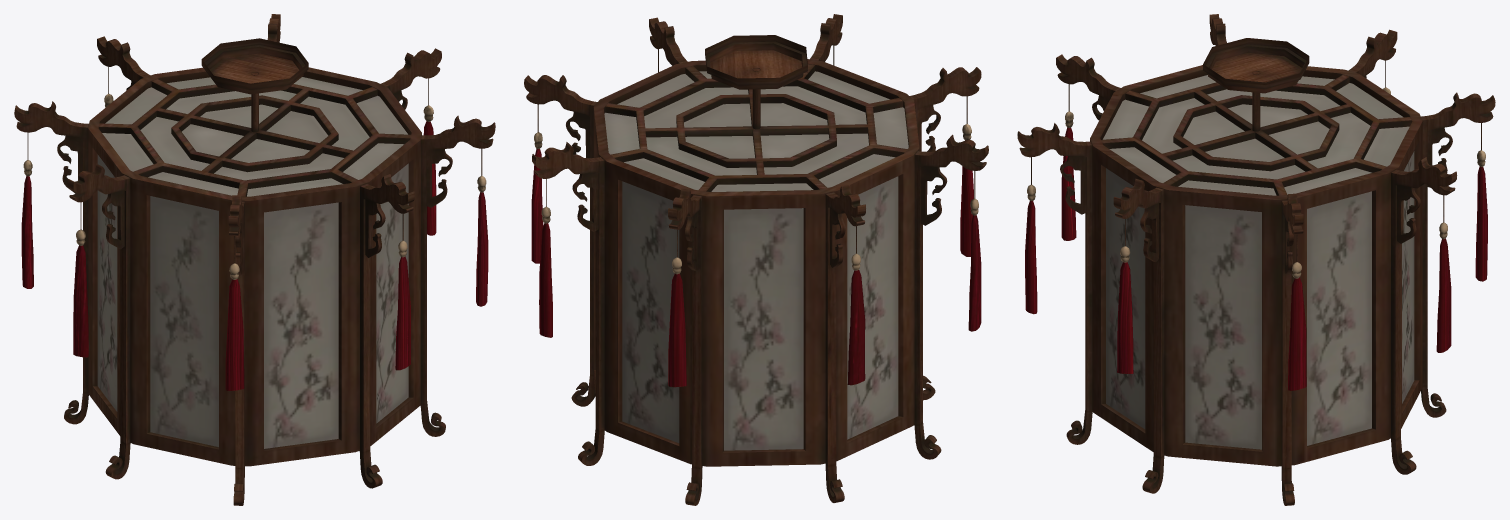
File: chinese-wooden-chandelier.glb
3 renders of one model, left to right at view 1: azimuth 30°, elevation 25°; view 2: azimuth 150°, elevation 25°; view 3: azimuth 270°, elevation 25°, orthographic.
Visible parts, largest first — view 1: chinese_chandelier; view 2: chinese_chandelier; view 3: chinese_chandelier.
Boxes of the visible parts, x1=… form: chinese_chandelier: x1=14, y1=14, x2=495, y2=505; chinese_chandelier: x1=524, y1=14, x2=988, y2=505; chinese_chandelier: x1=1017, y1=14, x2=1495, y2=505.
Bounding box in the file's own units: 0.8784 × 0.7483 × 0.8787.
1 material, 1 textured.
